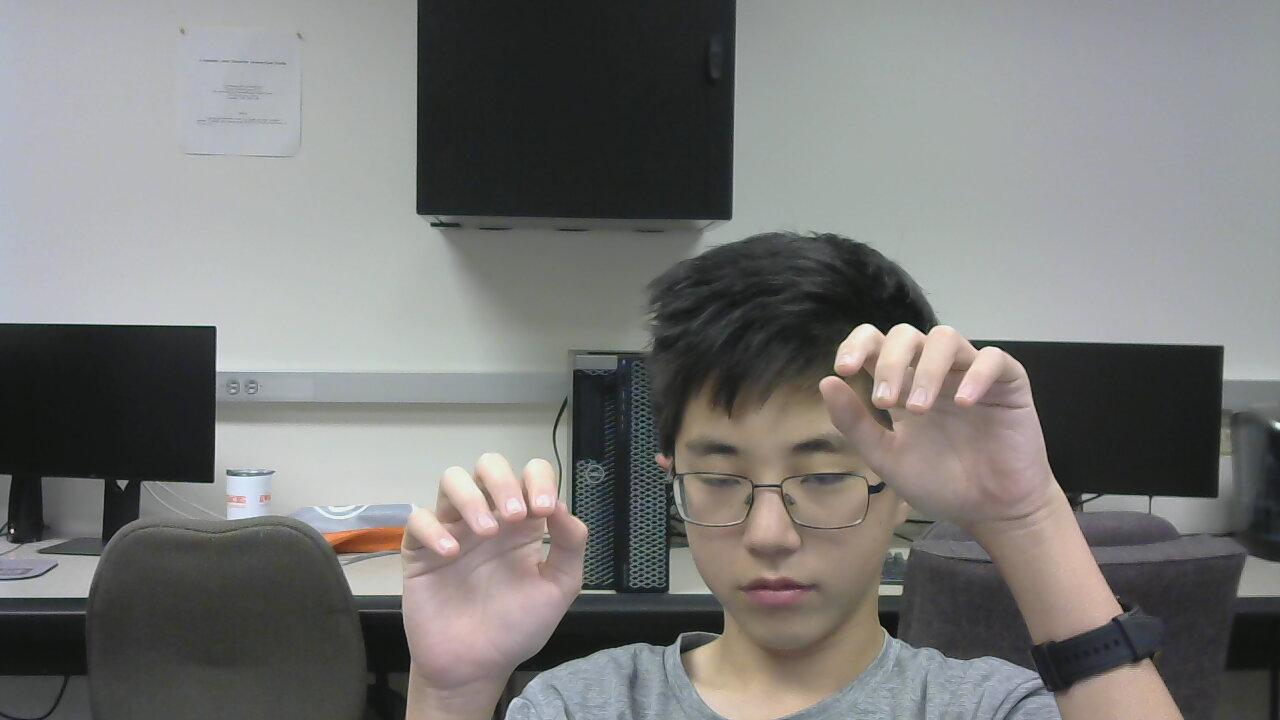hands: (385, 446, 597, 707), (809, 312, 1057, 519)
